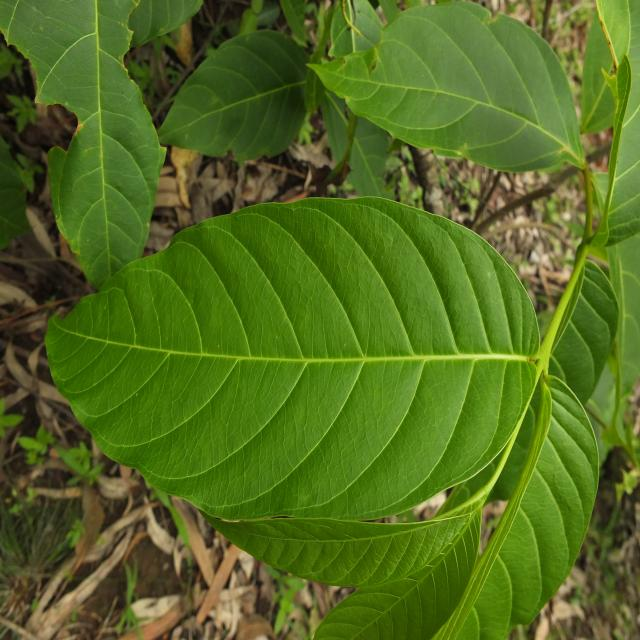Kutaja: (56, 162, 557, 540), (421, 183, 632, 640), (242, 12, 613, 219), (4, 0, 342, 210)
